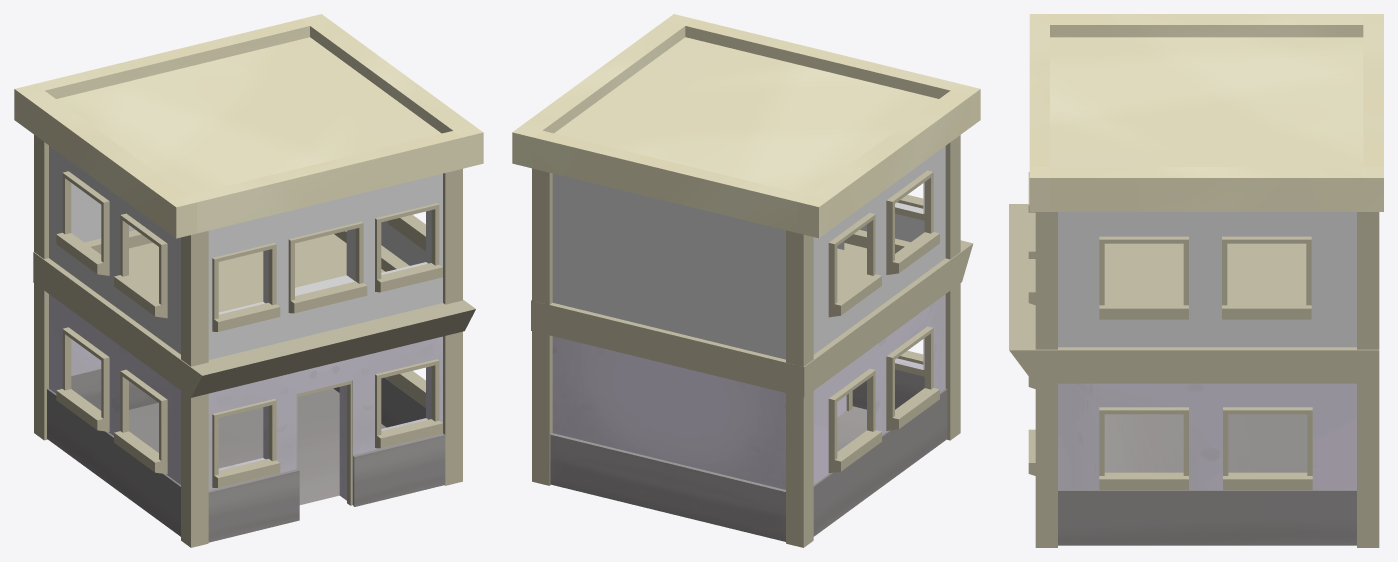
The model's file is crayun_house.fbx.
3 views of the same model, side by side, from view 1: azimuth 30°, elevation 25°; view 2: azimuth 150°, elevation 25°; view 3: azimuth 270°, elevation 25° (orthographic). The views are drawn at different scales.
Visible parts, largest first — view 1: Teto, ParedesCIma, Base, Teto.001, ParedesBaixo, Coluna.001, Coluna.002, Coluna, Janela.012, Janela.004, Janela.007, Janela.005 (+8 smaller); view 2: Teto, ParedesCIma, ParedesBaixo, Base, Teto.001, Coluna, Coluna.003, Coluna.001, Janela.004, Janela.007, Janela.003, Janela.005; view 3: Teto, Base, ParedesCIma, Teto.001, ParedesBaixo, Coluna.003, Coluna.002, Janela.002, Janela.001, Janela, Janela.009.
Part boxes in pixels (<box>): Teto: <box>14,14,483,238</box>; ParedesCIma: <box>49,145,442,359</box>; Base: <box>47,369,445,542</box>; Teto.001: <box>33,230,475,397</box>; ParedesBaixo: <box>49,294,442,504</box>; Coluna.001: <box>181,231,208,547</box>; Coluna.002: <box>443,168,462,485</box>; Coluna: <box>34,134,48,440</box>; Janela.012: <box>288,221,367,313</box>; Janela.004: <box>56,327,109,431</box>; Janela.007: <box>56,171,109,275</box>; Janela.005: <box>114,213,167,318</box>; Teto: <box>512,14,980,238</box>; ParedesCIma: <box>552,146,945,359</box>; ParedesBaixo: <box>552,294,945,489</box>; Base: <box>550,369,947,541</box>; Teto.001: <box>531,230,973,397</box>; Coluna: <box>786,230,813,547</box>; Coluna.003: <box>532,168,552,485</box>; Coluna.001: <box>945,135,960,440</box>; Janela.004: <box>828,368,881,473</box>; Janela.007: <box>828,213,881,317</box>; Janela.003: <box>886,326,939,430</box>; Janela.005: <box>886,170,939,274</box>; Teto: <box>1029,14,1383,211</box>; Base: <box>1058,414,1356,545</box>; ParedesCIma: <box>1058,212,1356,347</box>; Teto.001: <box>1009,204,1379,383</box>; ParedesBaixo: <box>1058,383,1356,489</box>; Coluna.003: <box>1357,212,1379,547</box>; Coluna.002: <box>1035,212,1057,547</box>; Janela.002: <box>1099,407,1188,490</box>; Janela.001: <box>1223,407,1312,490</box>; Janela: <box>1222,236,1311,319</box>; Janela.009: <box>1099,236,1188,319</box>.
Size of the model in its own units: 3502 by 3778 by 3381.
